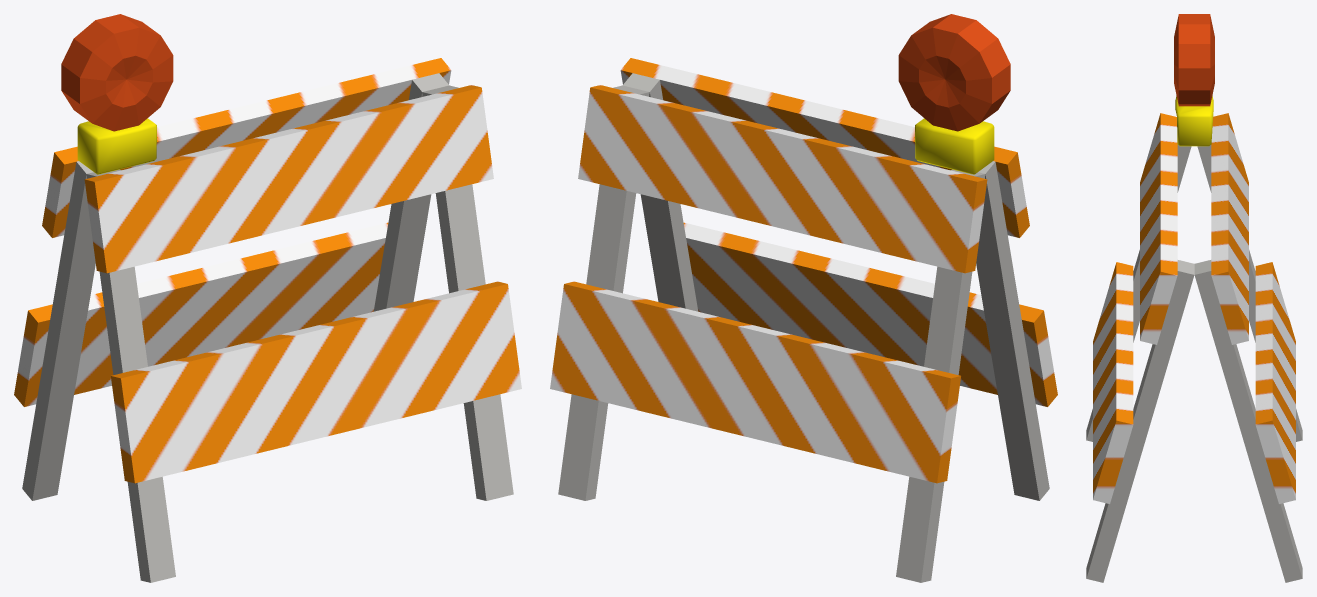
Rendered from f2ccc823-48c6-42dc-afef-5d093b9cfb29.glb.
3 renders of one model, left to right at view 1: azimuth 30°, elevation 25°; view 2: azimuth 150°, elevation 25°; view 3: azimuth 270°, elevation 25°, orthographic. The views are drawn at different scales.
Visible parts, largest first — view 1: ConstructionHorse; view 2: ConstructionHorse; view 3: ConstructionHorse.
Boxes of the visible parts, bbox=[...] form: ConstructionHorse: bbox=[14, 14, 521, 582]; ConstructionHorse: bbox=[550, 14, 1057, 582]; ConstructionHorse: bbox=[1086, 14, 1302, 582].
Size of what is drawn, in the model's own units: 1.08 by 1.34 by 0.6142.
2 materials, 2 textured.
